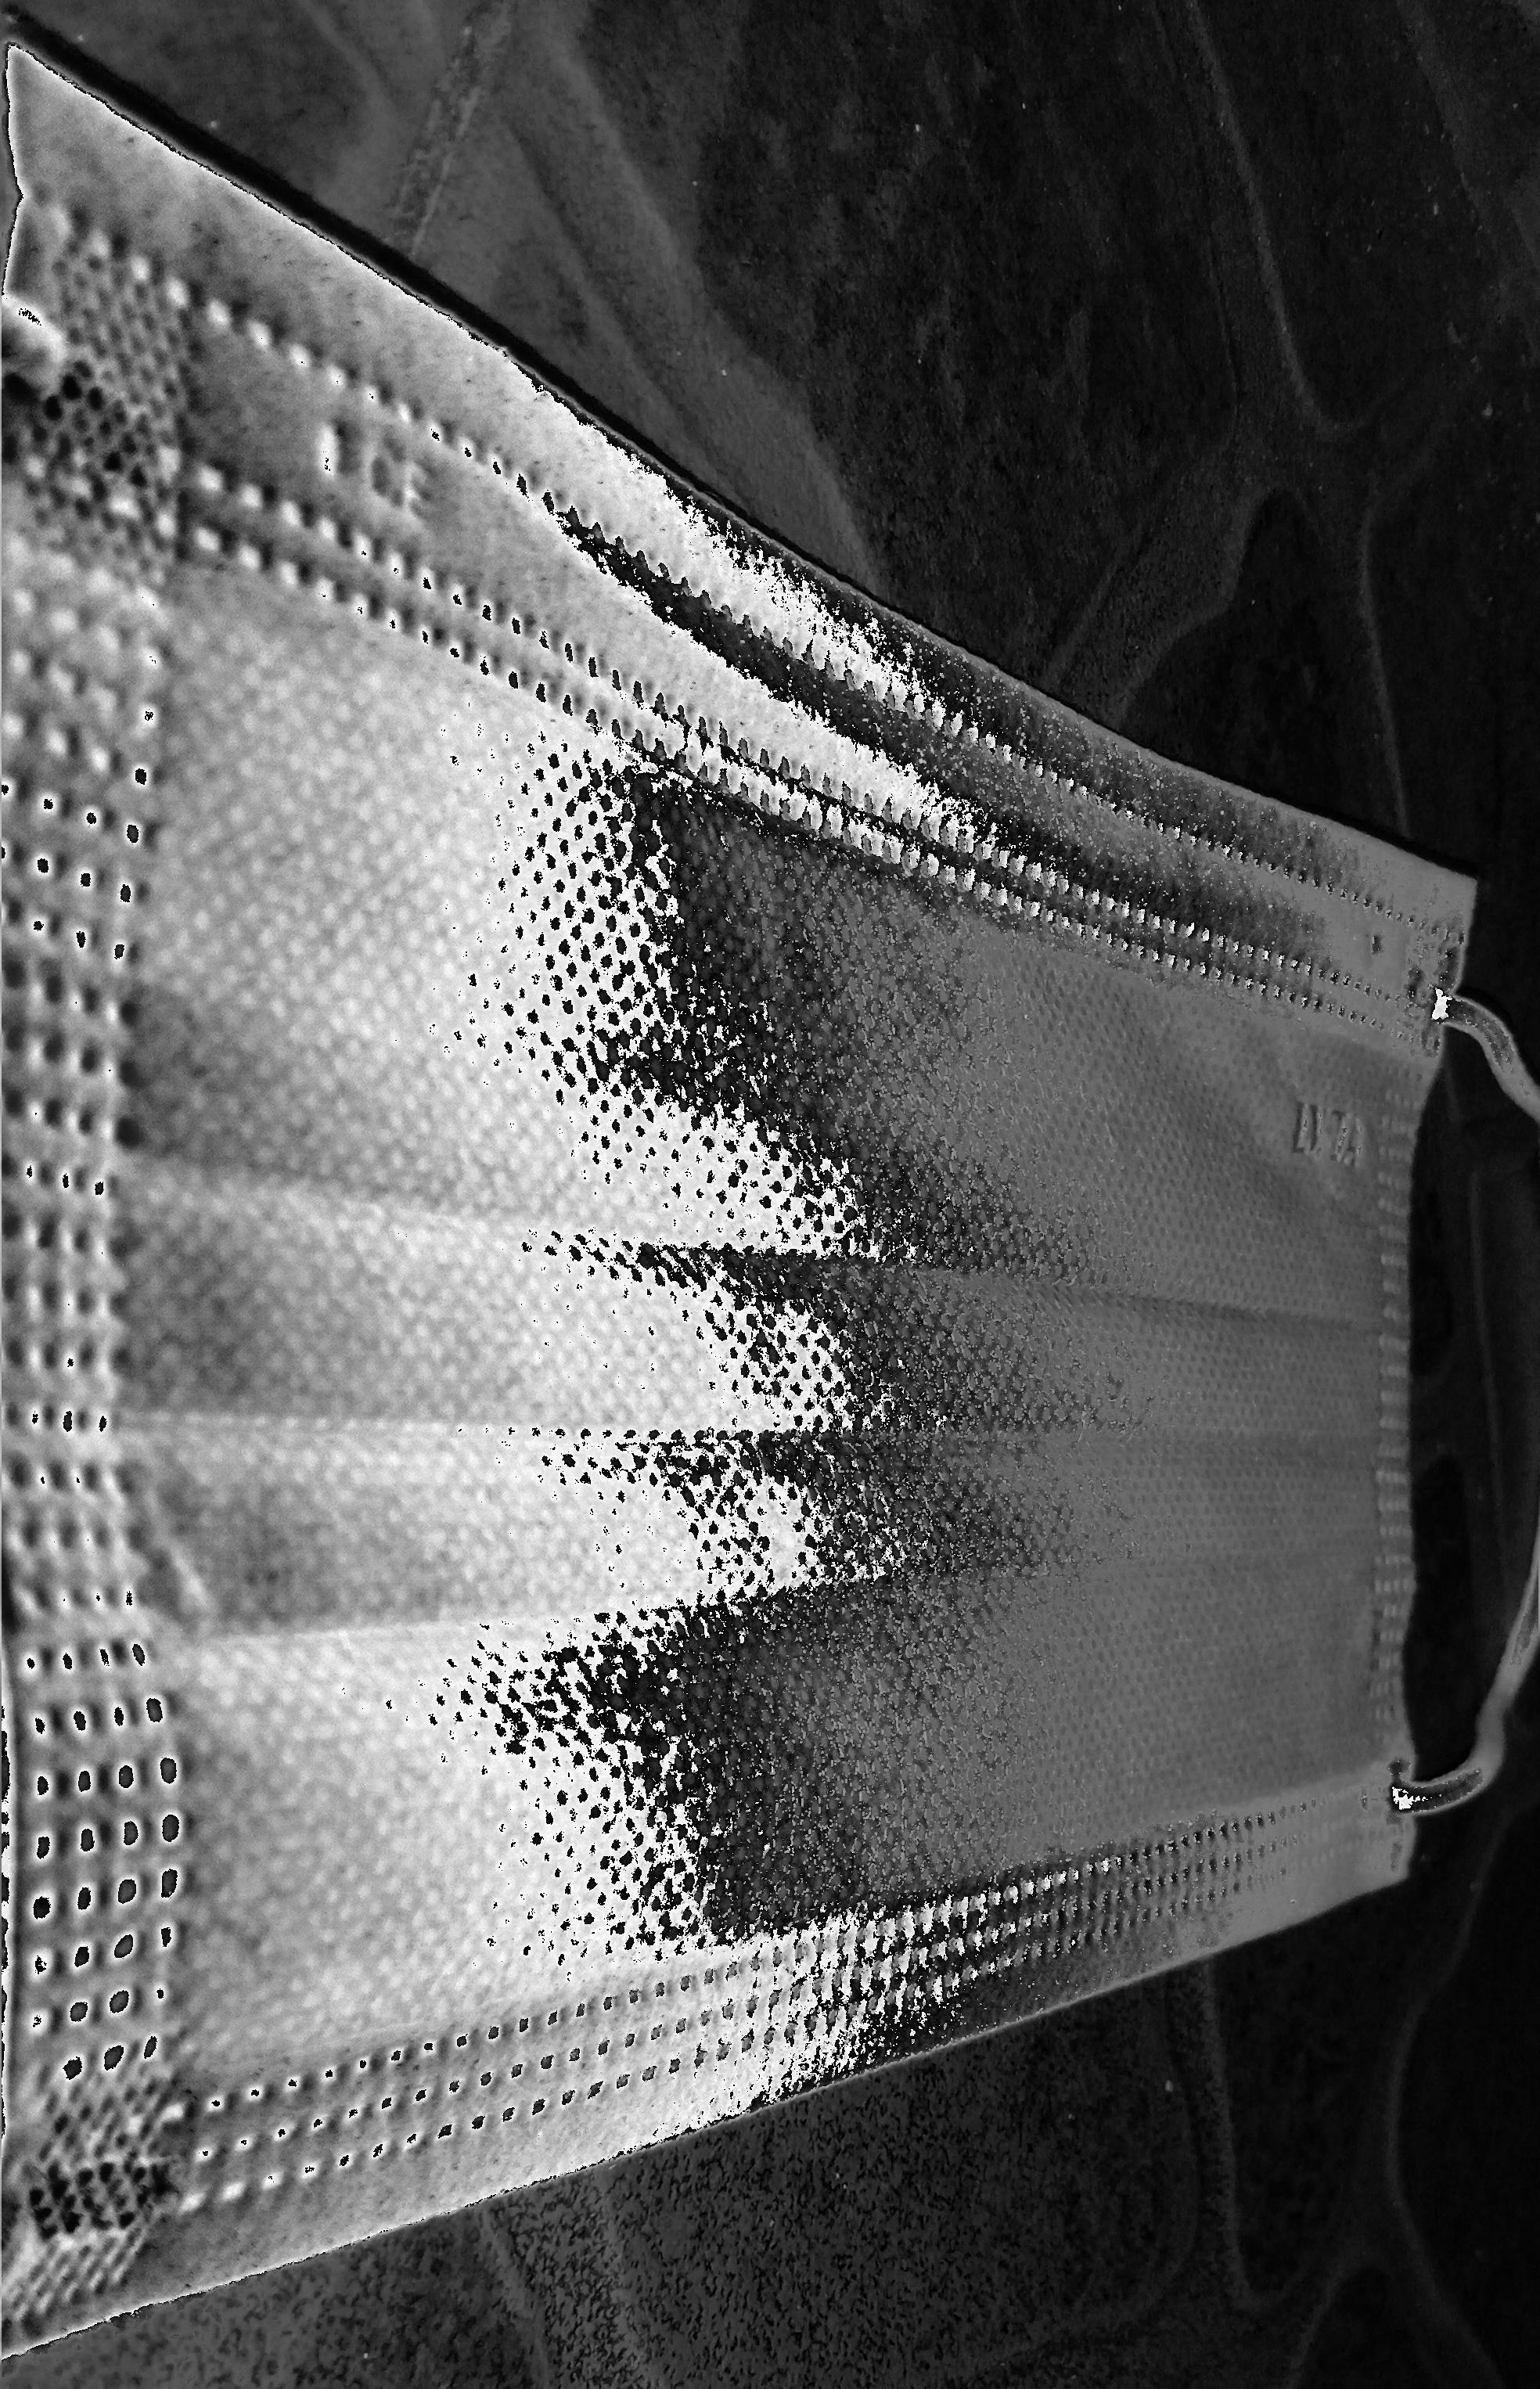High GSM: (188, 637, 1354, 2023)
